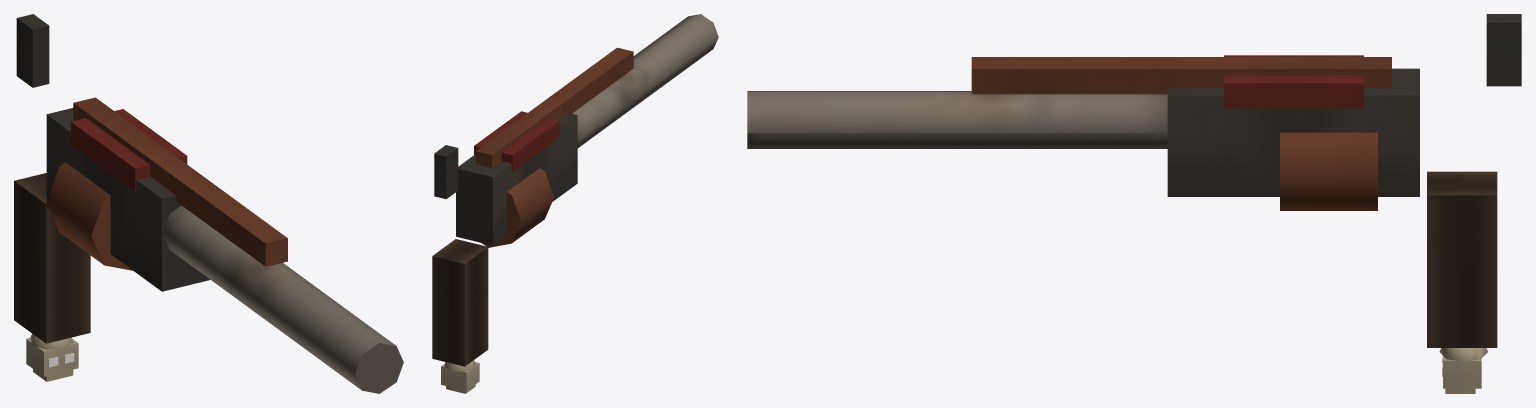
3 renders of one model, left to right at view 1: azimuth 30°, elevation 25°; view 2: azimuth 150°, elevation 25°; view 3: azimuth 270°, elevation 25°, orthographic. The views are drawn at different scales.
Visible parts, largest first — view 1: raider_weapon_scrap_revolver; view 2: raider_weapon_scrap_revolver; view 3: raider_weapon_scrap_revolver.
Boxes of the visible parts, left/top/right/bottom form: raider_weapon_scrap_revolver: left=14, top=14, right=403, bottom=393; raider_weapon_scrap_revolver: left=432, top=14, right=718, bottom=393; raider_weapon_scrap_revolver: left=747, top=14, right=1521, bottom=393.
Bounding box in the file's own units: 0.08 × 0.29 × 0.5525.
Materials: 7 (7 with a texture image).
